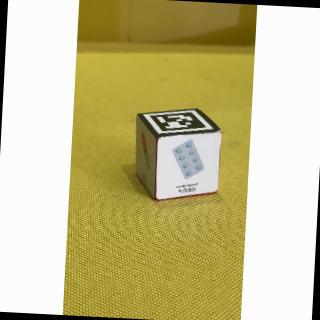Tablet: (155, 128, 224, 203)
